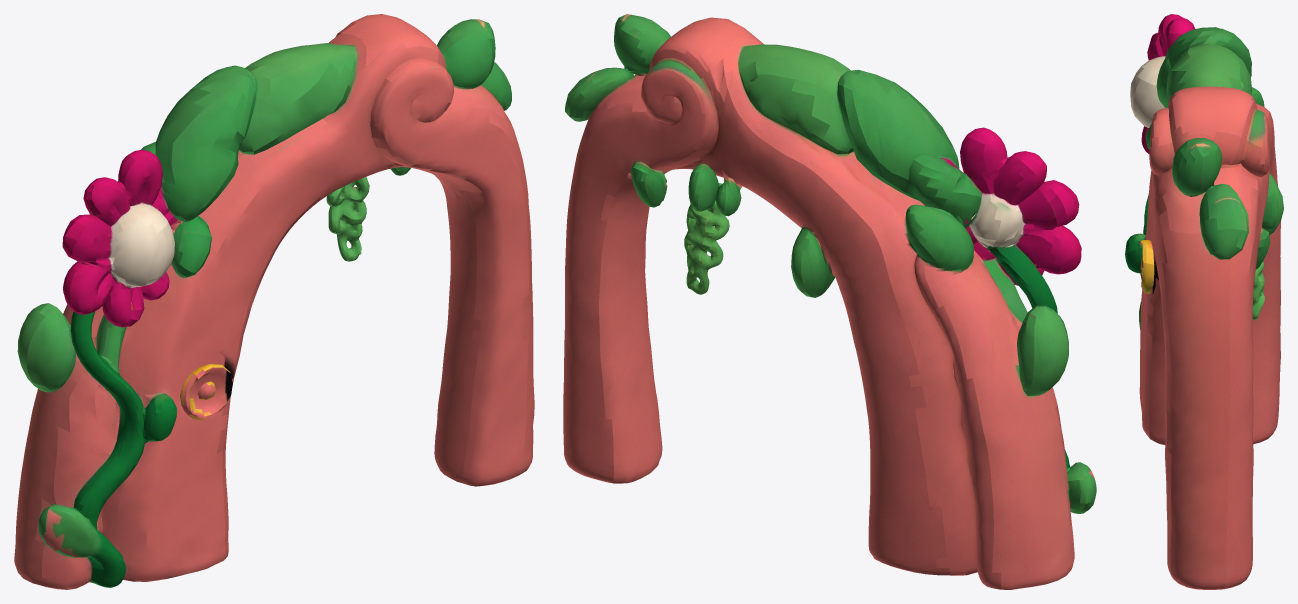
The model's file is dream-arch.glb.
The picture shows the model from 3 angles, left to right: view 1: azimuth 30°, elevation 25°; view 2: azimuth 150°, elevation 25°; view 3: azimuth 270°, elevation 25°; orthographic projection. The views are drawn at different scales.
Visible parts, largest first — view 1: dream-arch; view 2: dream-arch; view 3: dream-arch.
Part boxes in pixels (x1,y1,x2,y2): dream-arch: [14, 14, 534, 589]; dream-arch: [563, 14, 1096, 589]; dream-arch: [1125, 14, 1283, 589].
Size of the model in its own units: 1.9 by 1.67 by 0.5476.
Materials: 1 (1 with a texture image).
